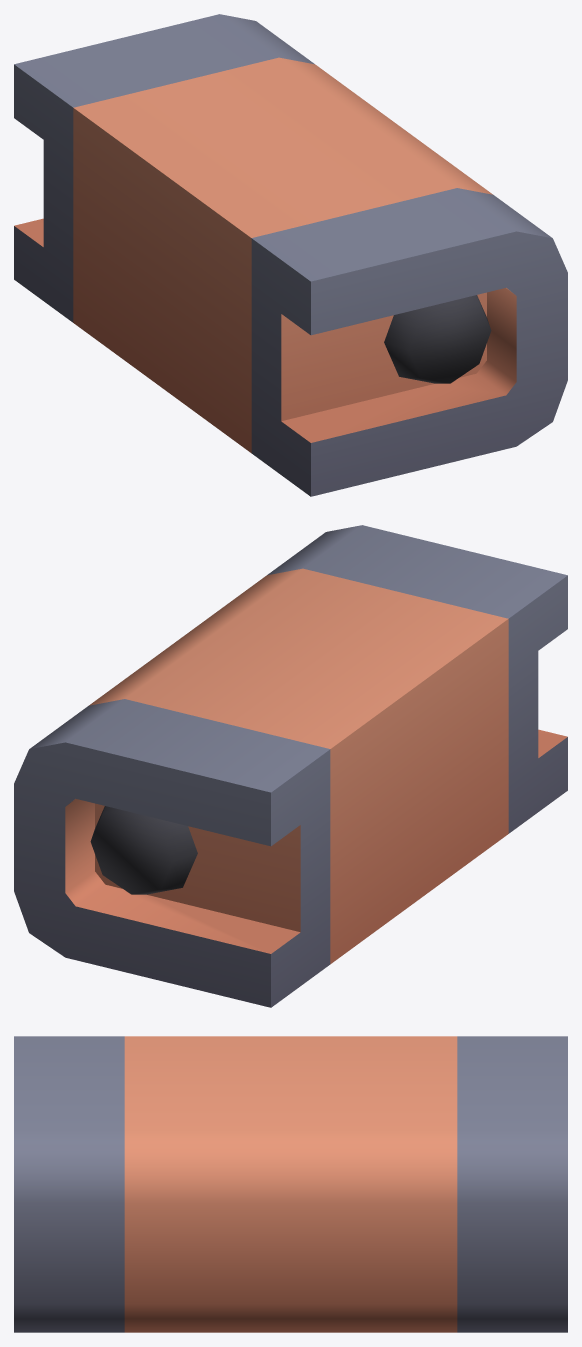
Rendered from conveyor-stripe-part-end.obj.
The picture shows the model from 3 angles, top to bottom: view 1: azimuth 30°, elevation 25°; view 2: azimuth 150°, elevation 25°; view 3: azimuth 270°, elevation 25°; orthographic projection. The views are drawn at different scales.
Visible parts, largest first — view 1: conveyor-stripe-part-end; view 2: conveyor-stripe-part-end; view 3: conveyor-stripe-part-end.
Boxes of the visible parts, x1,y1,x2,y2 form: conveyor-stripe-part-end: (14, 14, 567, 496); conveyor-stripe-part-end: (14, 525, 567, 1007); conveyor-stripe-part-end: (14, 1036, 567, 1332).
Size of the model in its own units: 0.5 by 0.4 by 1.
